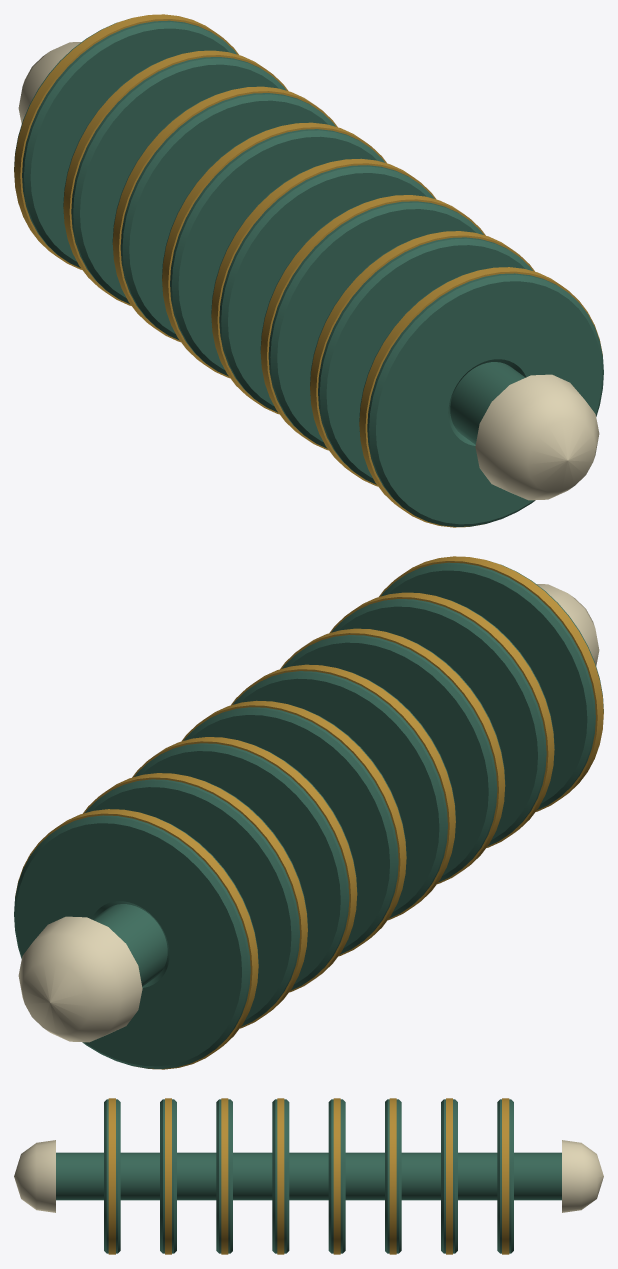
File: hefe_emitter.obj
The picture shows the model from 3 angles, top to bottom: view 1: azimuth 30°, elevation 25°; view 2: azimuth 150°, elevation 25°; view 3: azimuth 270°, elevation 25°; orthographic projection. The views are drawn at different scales.
Parts seen in each view (by area): view 1: hefe_emitter; view 2: hefe_emitter; view 3: hefe_emitter.
Part boxes in pixels (bbox=[...]): hefe_emitter: bbox=[14, 14, 603, 527]; hefe_emitter: bbox=[14, 556, 603, 1069]; hefe_emitter: bbox=[14, 1098, 603, 1254].
Size of the model in its own units: 1.12 by 1.12 by 4.2.
